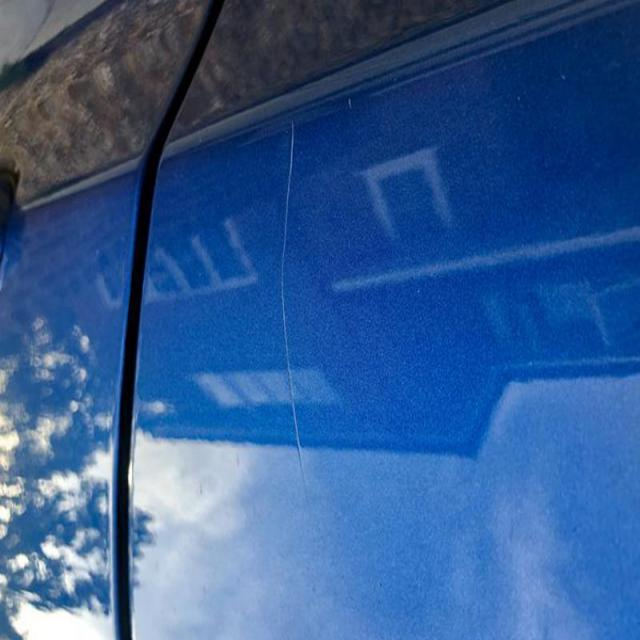scratch: (276, 114, 314, 484)
